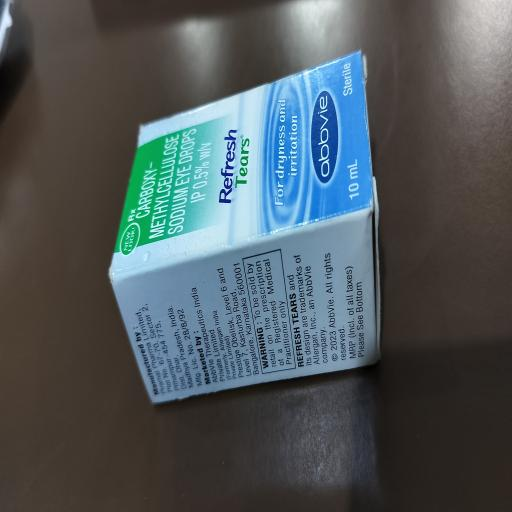eye-drops: (135, 116, 222, 246), (225, 114, 257, 235), (307, 91, 342, 197)
medicine: (105, 89, 395, 382)
